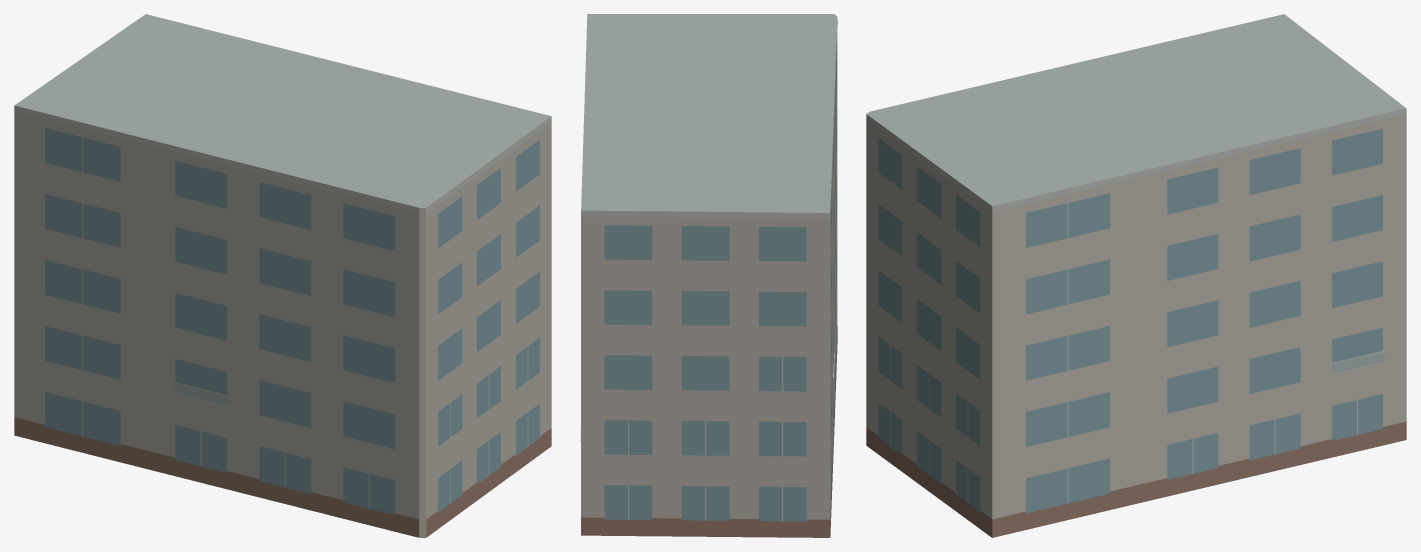
The model's file is survey-upis-33045264.glb.
The picture shows the model from 3 angles, left to right: view 1: azimuth 30°, elevation 25°; view 2: azimuth 150°, elevation 25°; view 3: azimuth 270°, elevation 25°; orthographic projection. The views are drawn at different scales.
Visible parts, largest first — view 1: survey-upis-33045264.tmp; view 2: survey-upis-33045264.tmp; view 3: survey-upis-33045264.tmp.
Boxes of the visible parts, left/top/right/bottom form: survey-upis-33045264.tmp: left=14, top=14, right=551, bottom=537; survey-upis-33045264.tmp: left=580, top=14, right=837, bottom=537; survey-upis-33045264.tmp: left=866, top=14, right=1406, bottom=537.
Size of the model in its own units: 17.54 by 14.1 by 20.82.
